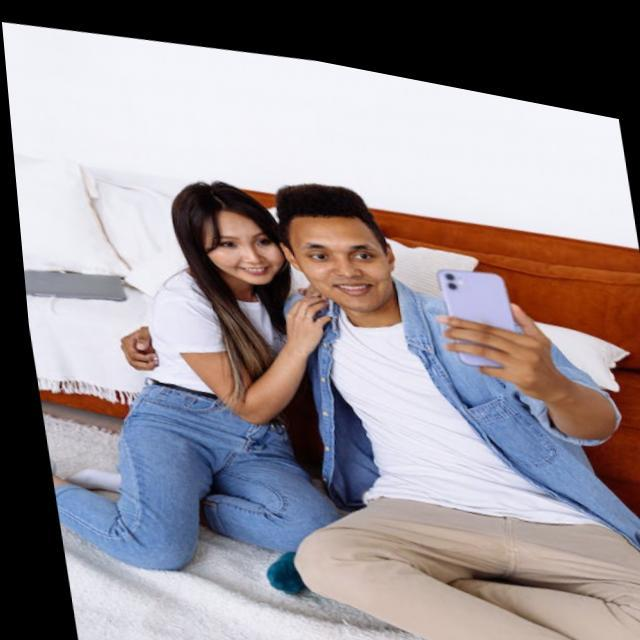Nonhelmet: (268, 176, 405, 315), (163, 173, 282, 294)
